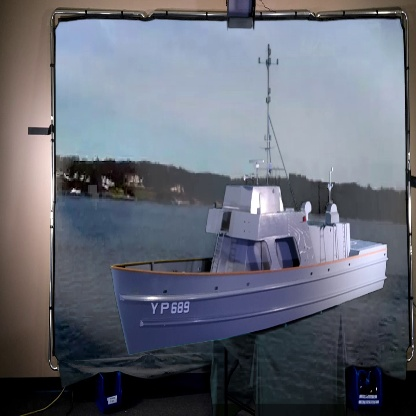YP689: (110, 43, 388, 355)
